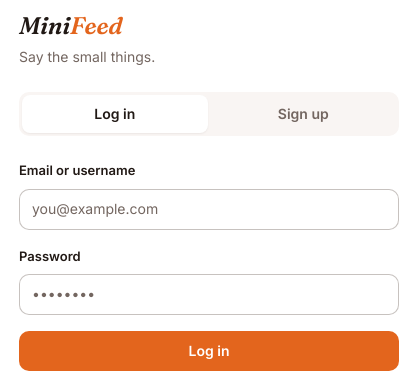
AuthPage › disables submit and shows submitting state while login is pending
The image size is (419, 388).
In the field labelled "Email or username": (209, 209) [19,189,399,230], type "yan@example.com"
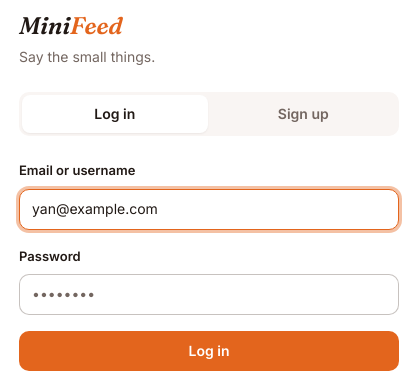
In the password field labelled "Password": (209, 295) [19,274,399,315], type "secret123"
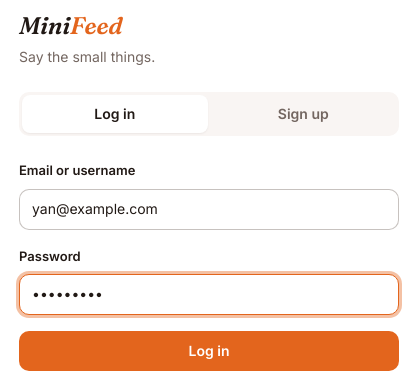
Click the button "Log in": click(209, 351) [19,331,399,371]
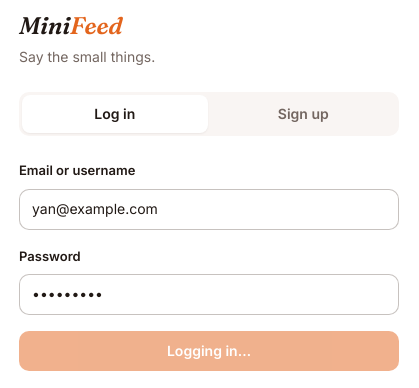
Check: the button "Logging in…" is disabled, box [19,331,399,371]
